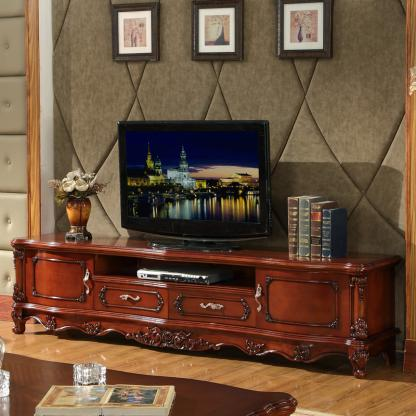TV stand: (8, 233, 405, 374)
Wooden floor: (0, 299, 416, 416)
